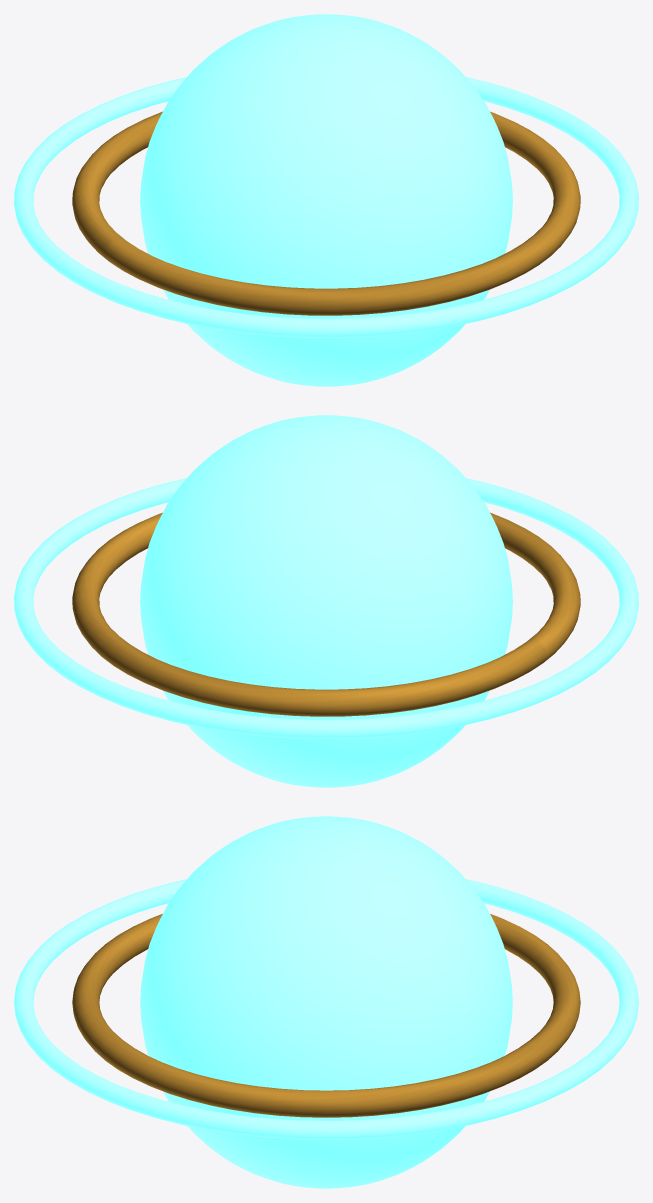
File: Merchant_pet.glb
3 renders of one model, top to bottom at view 1: azimuth 30°, elevation 25°; view 2: azimuth 150°, elevation 25°; view 3: azimuth 270°, elevation 25°, orthographic.
Parts seen in each view (by area): view 1: Core, RingB, RingA; view 2: Core, RingB, RingA; view 3: Core, RingB, RingA.
Part boxes in pixels (x1=…): Core: x1=140, y1=14, x2=512, y2=386; RingB: x1=14, y1=77, x2=638, y2=337; RingA: x1=72, y1=111, x2=580, y2=315; Core: x1=140, y1=415, x2=512, y2=787; RingB: x1=14, y1=478, x2=638, y2=738; RingA: x1=72, y1=512, x2=580, y2=716; Core: x1=140, y1=816, x2=512, y2=1188; RingB: x1=14, y1=879, x2=638, y2=1139; RingA: x1=72, y1=914, x2=580, y2=1117.
Bounding box in the file's own units: 1.61 × 0.96 × 1.61.
Materials: 2 (1 with a texture image).
